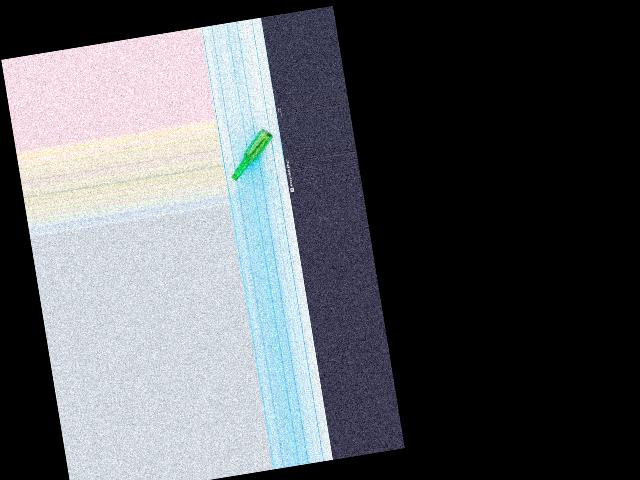beer: (224, 126, 279, 181)
